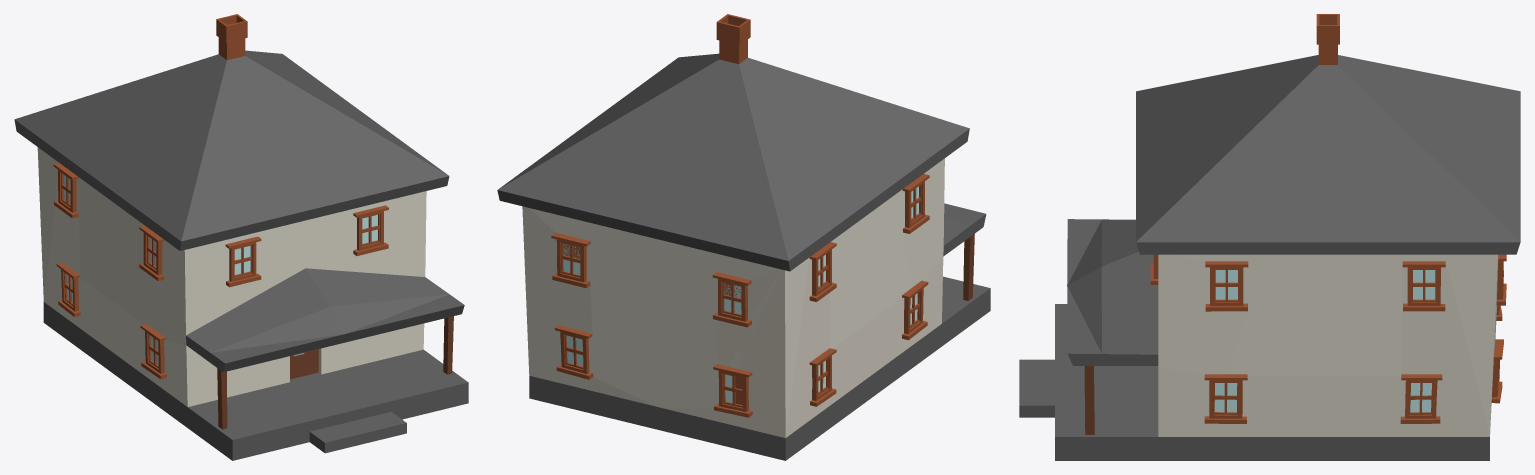
Rendered from House.glb.
3 views of the same model, side by side, from view 1: azimuth 30°, elevation 25°; view 2: azimuth 150°, elevation 25°; view 3: azimuth 270°, elevation 25° (orthographic). The views are drawn at different scales.
Visible parts, largest first — view 1: House1; view 2: House1; view 3: House1.
Boxes of the visible parts, left/top/right/bottom form: House1: left=14, top=14, right=468, bottom=460; House1: left=497, top=14, right=990, bottom=460; House1: left=1019, top=14, right=1520, bottom=460.
Bounding box in the file's own units: 1.22 × 1.42 × 1.72.
1 material, 1 textured.
